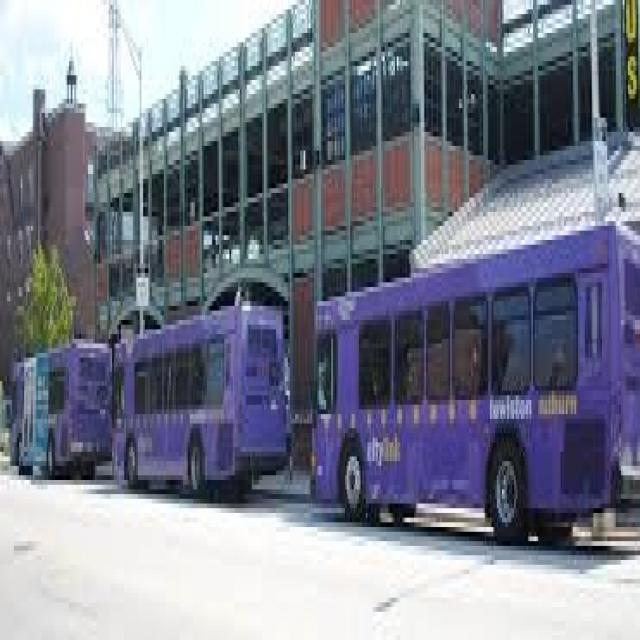bus: (300, 218, 640, 572), (114, 296, 290, 520), (5, 336, 110, 484)
